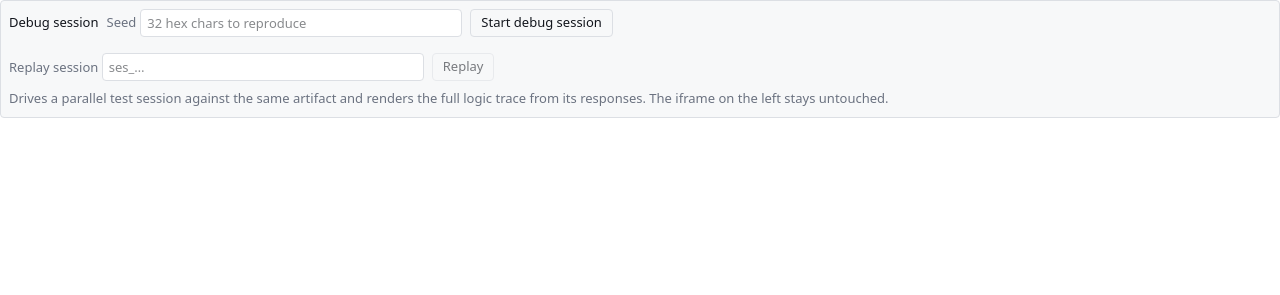
Test: DebugPanel replay › renders the replayed pages and their orders AS RENDERED
Type "ses_01HQ8ZG7VYABCDEFGHJKMNPQRS" into the field with test id "debug-replay-id" at {"x": 263, "y": 67}, box [102,53,424,81]
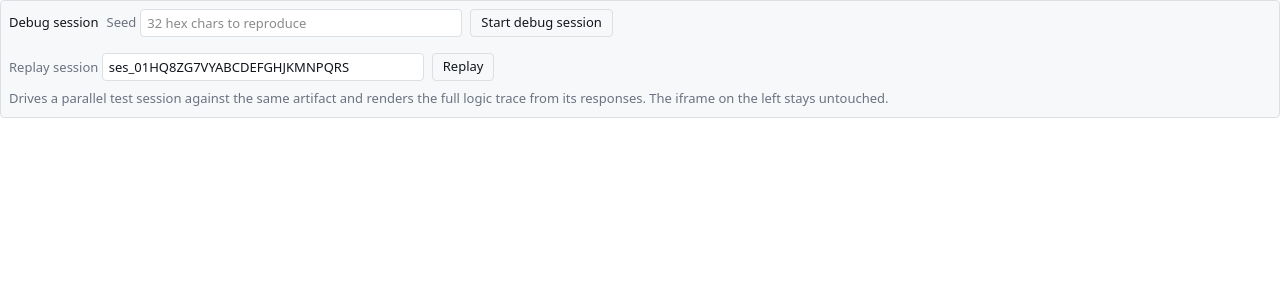
Click the button with test id "debug-replay-start" at {"x": 463, "y": 67}, box [432,53,494,81]
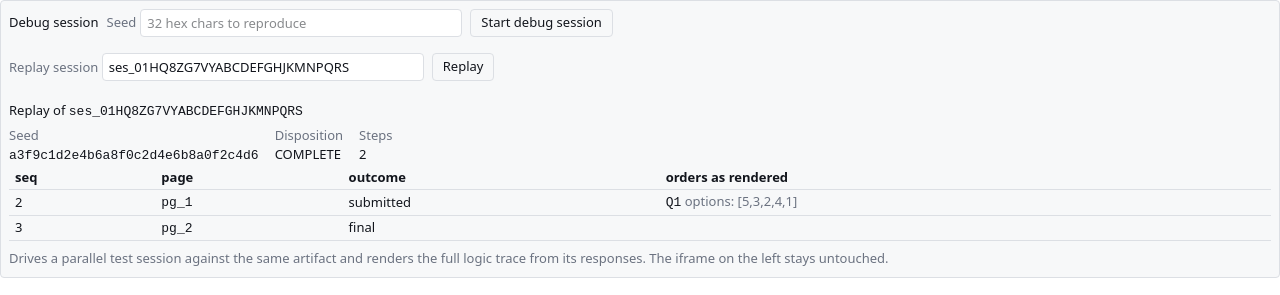
Check: the element with test id "debug-replay" is shown, box [9,97,1271,241]
Check: the text with test id "replay-seed" reads "a3f9c1d2e4b6a8f0c2d4e6b8a0f2c4d6", box [9,148,259,163]
Check: the text with test id "replay-disposition" reads "COMPLETE", box [275,145,341,163]
